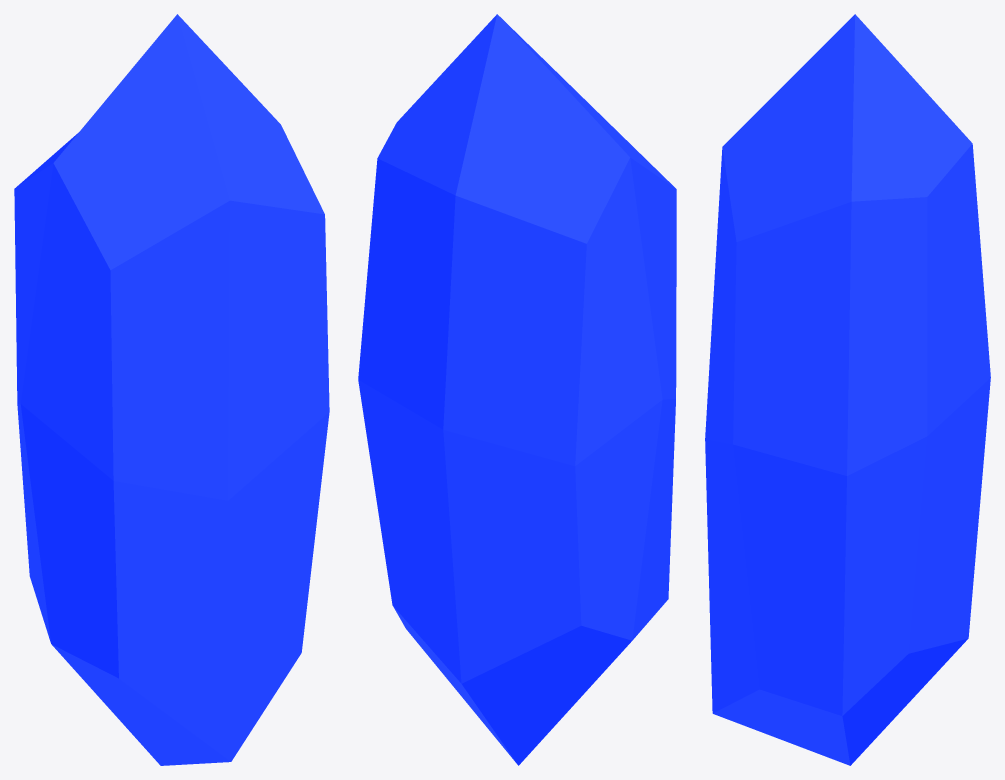
Rendered from crystal_2.glb.
The picture shows the model from 3 angles, left to right: view 1: azimuth 30°, elevation 25°; view 2: azimuth 150°, elevation 25°; view 3: azimuth 270°, elevation 25°; orthographic projection. The views are drawn at different scales.
Visible parts, largest first — view 1: crystal_2; view 2: crystal_2; view 3: crystal_2.
Part boxes in pixels (<box>): crystal_2: <box>14,14,329,765</box>; crystal_2: <box>358,14,676,765</box>; crystal_2: <box>705,14,990,765</box>.
Size of the model in its own units: 3.31 by 7.94 by 2.7.
